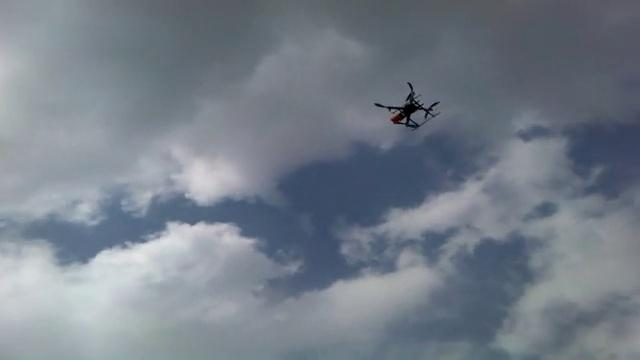drone: (371, 79, 443, 132)
